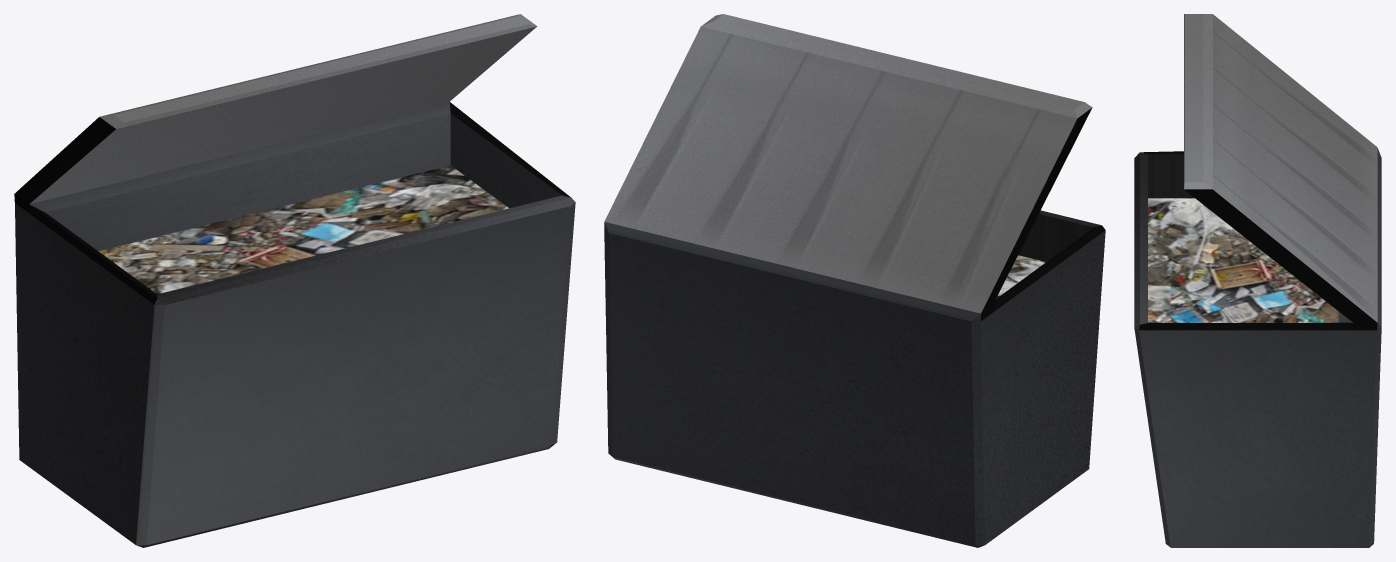
Rendered from lixeira.obj.
The picture shows the model from 3 angles, left to right: view 1: azimuth 30°, elevation 25°; view 2: azimuth 150°, elevation 25°; view 3: azimuth 270°, elevation 25°; orthographic projection. The views are drawn at different scales.
Visible parts, largest first — view 1: Cube; view 2: Cube; view 3: Cube.
Part boxes in pixels (bbox=[...]): Cube: bbox=[14, 14, 575, 547]; Cube: bbox=[604, 14, 1105, 547]; Cube: bbox=[1134, 14, 1381, 547].
Bounding box in the file's own units: 8.85 × 8.24 × 5.13.
